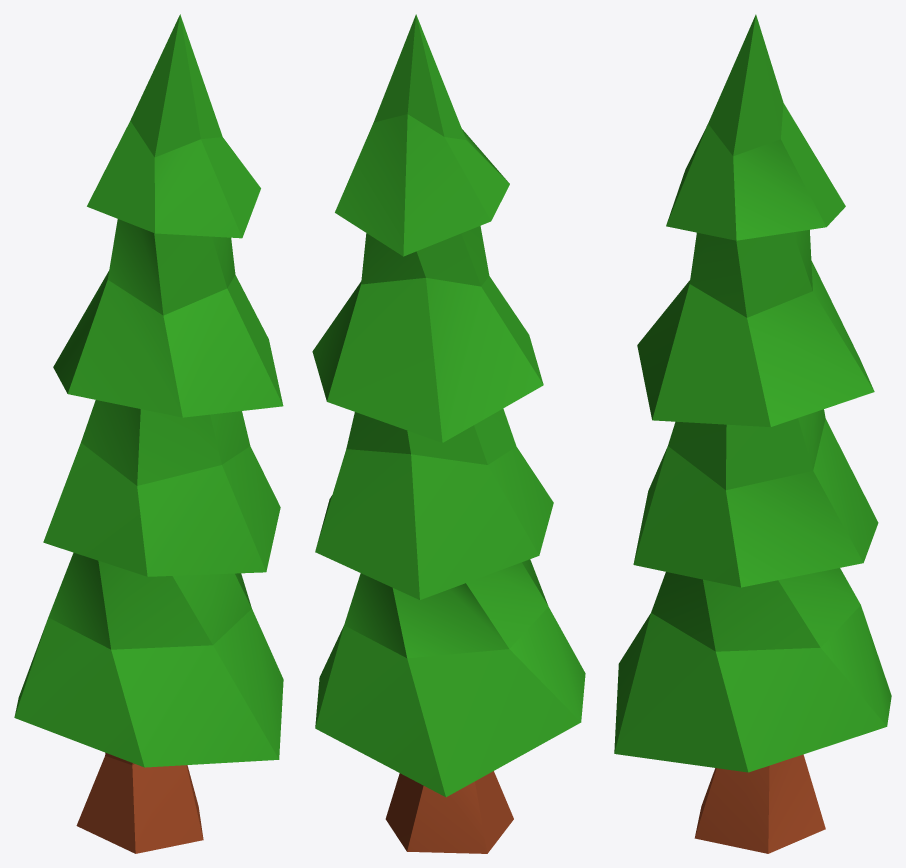
Rendered from Fichte.fbx.
3 renders of one model, left to right at view 1: azimuth 30°, elevation 25°; view 2: azimuth 150°, elevation 25°; view 3: azimuth 270°, elevation 25°, orthographic. The views are drawn at different scales.
Parts seen in each view (by area): view 1: Fichte; view 2: Fichte; view 3: Fichte.
Part boxes in pixels (left/top/right/bottom): Fichte: left=14, top=14, right=283, bottom=853; Fichte: left=312, top=14, right=585, bottom=853; Fichte: left=614, top=14, right=891, bottom=853.
Size of the model in its own units: 352 by 1020 by 310.
